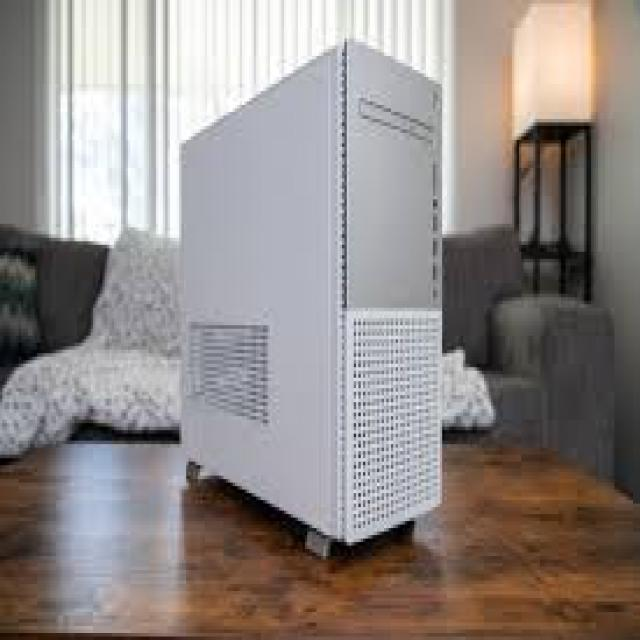Computer: (171, 23, 473, 582)
